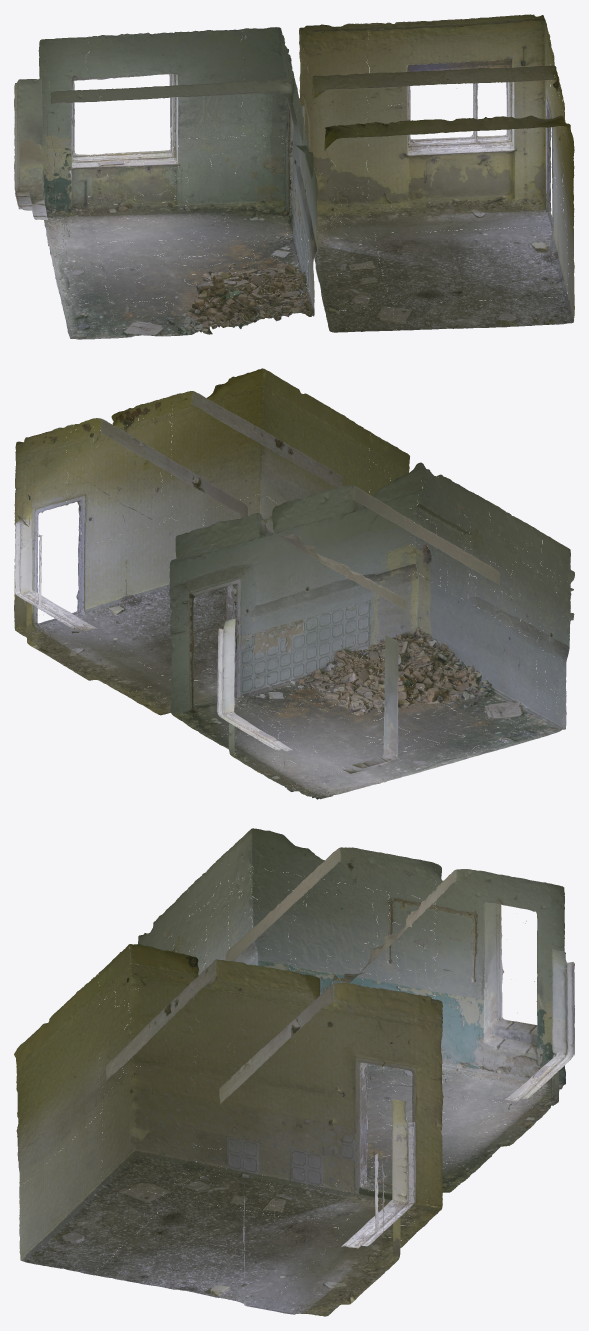
File: ruined_building.glb
3 views of the same model, one above another, from view 1: azimuth 30°, elevation 25°; view 2: azimuth 150°, elevation 25°; view 3: azimuth 270°, elevation 25° (orthographic). The views are drawn at different scales.
Parts seen in each view (by area): view 1: Object_6, Object_3, Object_2, Object_9, Object_5, Object_8, Object_4, Object_7; view 2: Object_4, Object_6, Object_2, Object_3, Object_8, Object_5, Object_9, Object_7; view 3: Object_5, Object_4, Object_9, Object_8, Object_2, Object_3, Object_7, Object_6.
Boxes of the visible parts, bbox=[...] form: Object_6: bbox=[85, 29, 563, 338]; Object_3: bbox=[249, 43, 563, 310]; Object_2: bbox=[87, 95, 574, 258]; Object_9: bbox=[51, 23, 574, 339]; Object_5: bbox=[14, 36, 392, 268]; Object_8: bbox=[251, 14, 550, 309]; Object_4: bbox=[52, 130, 567, 333]; Object_7: bbox=[51, 80, 330, 252]; Object_4: bbox=[72, 432, 574, 771]; Object_6: bbox=[65, 395, 537, 760]; Object_2: bbox=[122, 368, 370, 786]; Object_3: bbox=[14, 397, 384, 715]; Object_8: bbox=[14, 426, 384, 710]; Object_5: bbox=[147, 477, 421, 799]; Object_9: bbox=[122, 494, 573, 770]; Object_7: bbox=[280, 458, 574, 629]; Object_5: bbox=[186, 863, 574, 1226]; Object_4: bbox=[92, 851, 437, 1308]; Object_9: bbox=[19, 866, 468, 1274]; Object_8: bbox=[175, 936, 415, 1227]; Object_2: bbox=[14, 973, 558, 1239]; Object_3: bbox=[161, 1011, 415, 1316]; Object_7: bbox=[99, 828, 436, 1089]; Object_6: bbox=[101, 921, 567, 1218].
Bounding box in the file's own units: 31.4 × 11.15 × 26.06.
8 materials, 8 textured.
